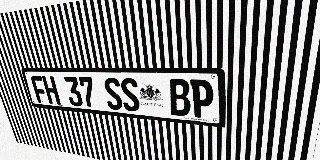3: (64, 77, 84, 107)
7: (77, 77, 98, 108)
B: (168, 79, 191, 117)
F: (30, 76, 49, 104)
H: (42, 76, 61, 105)
P: (190, 79, 213, 119)
S: (119, 78, 141, 112), (103, 77, 124, 111)
